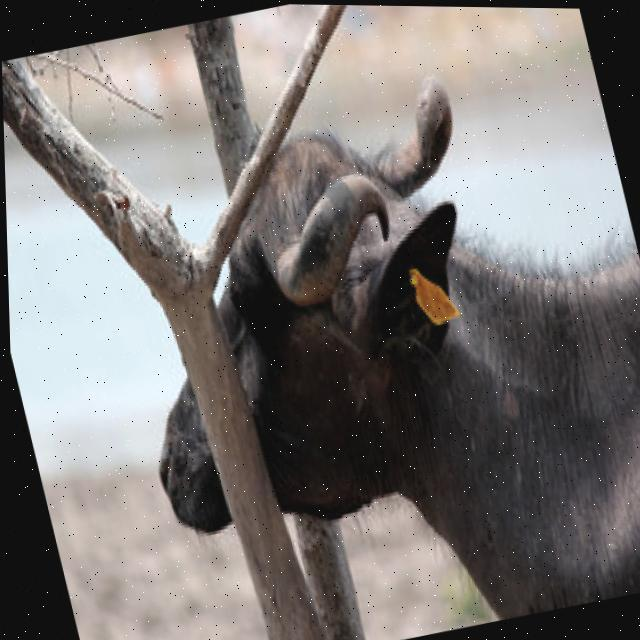Buffalo: (70, 34, 640, 640)
